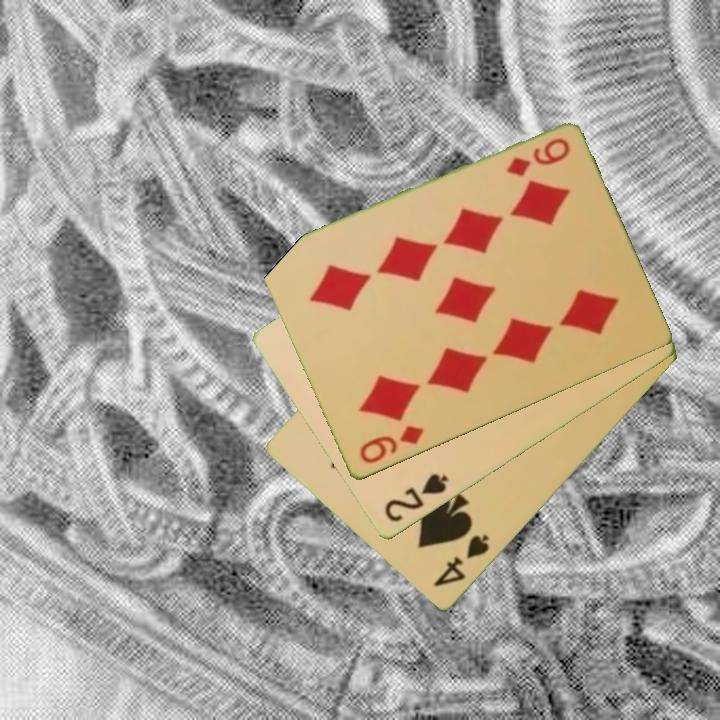2s: (381, 470, 451, 526)
4s: (430, 531, 493, 591)
9d: (502, 134, 573, 181), (355, 422, 427, 467)
